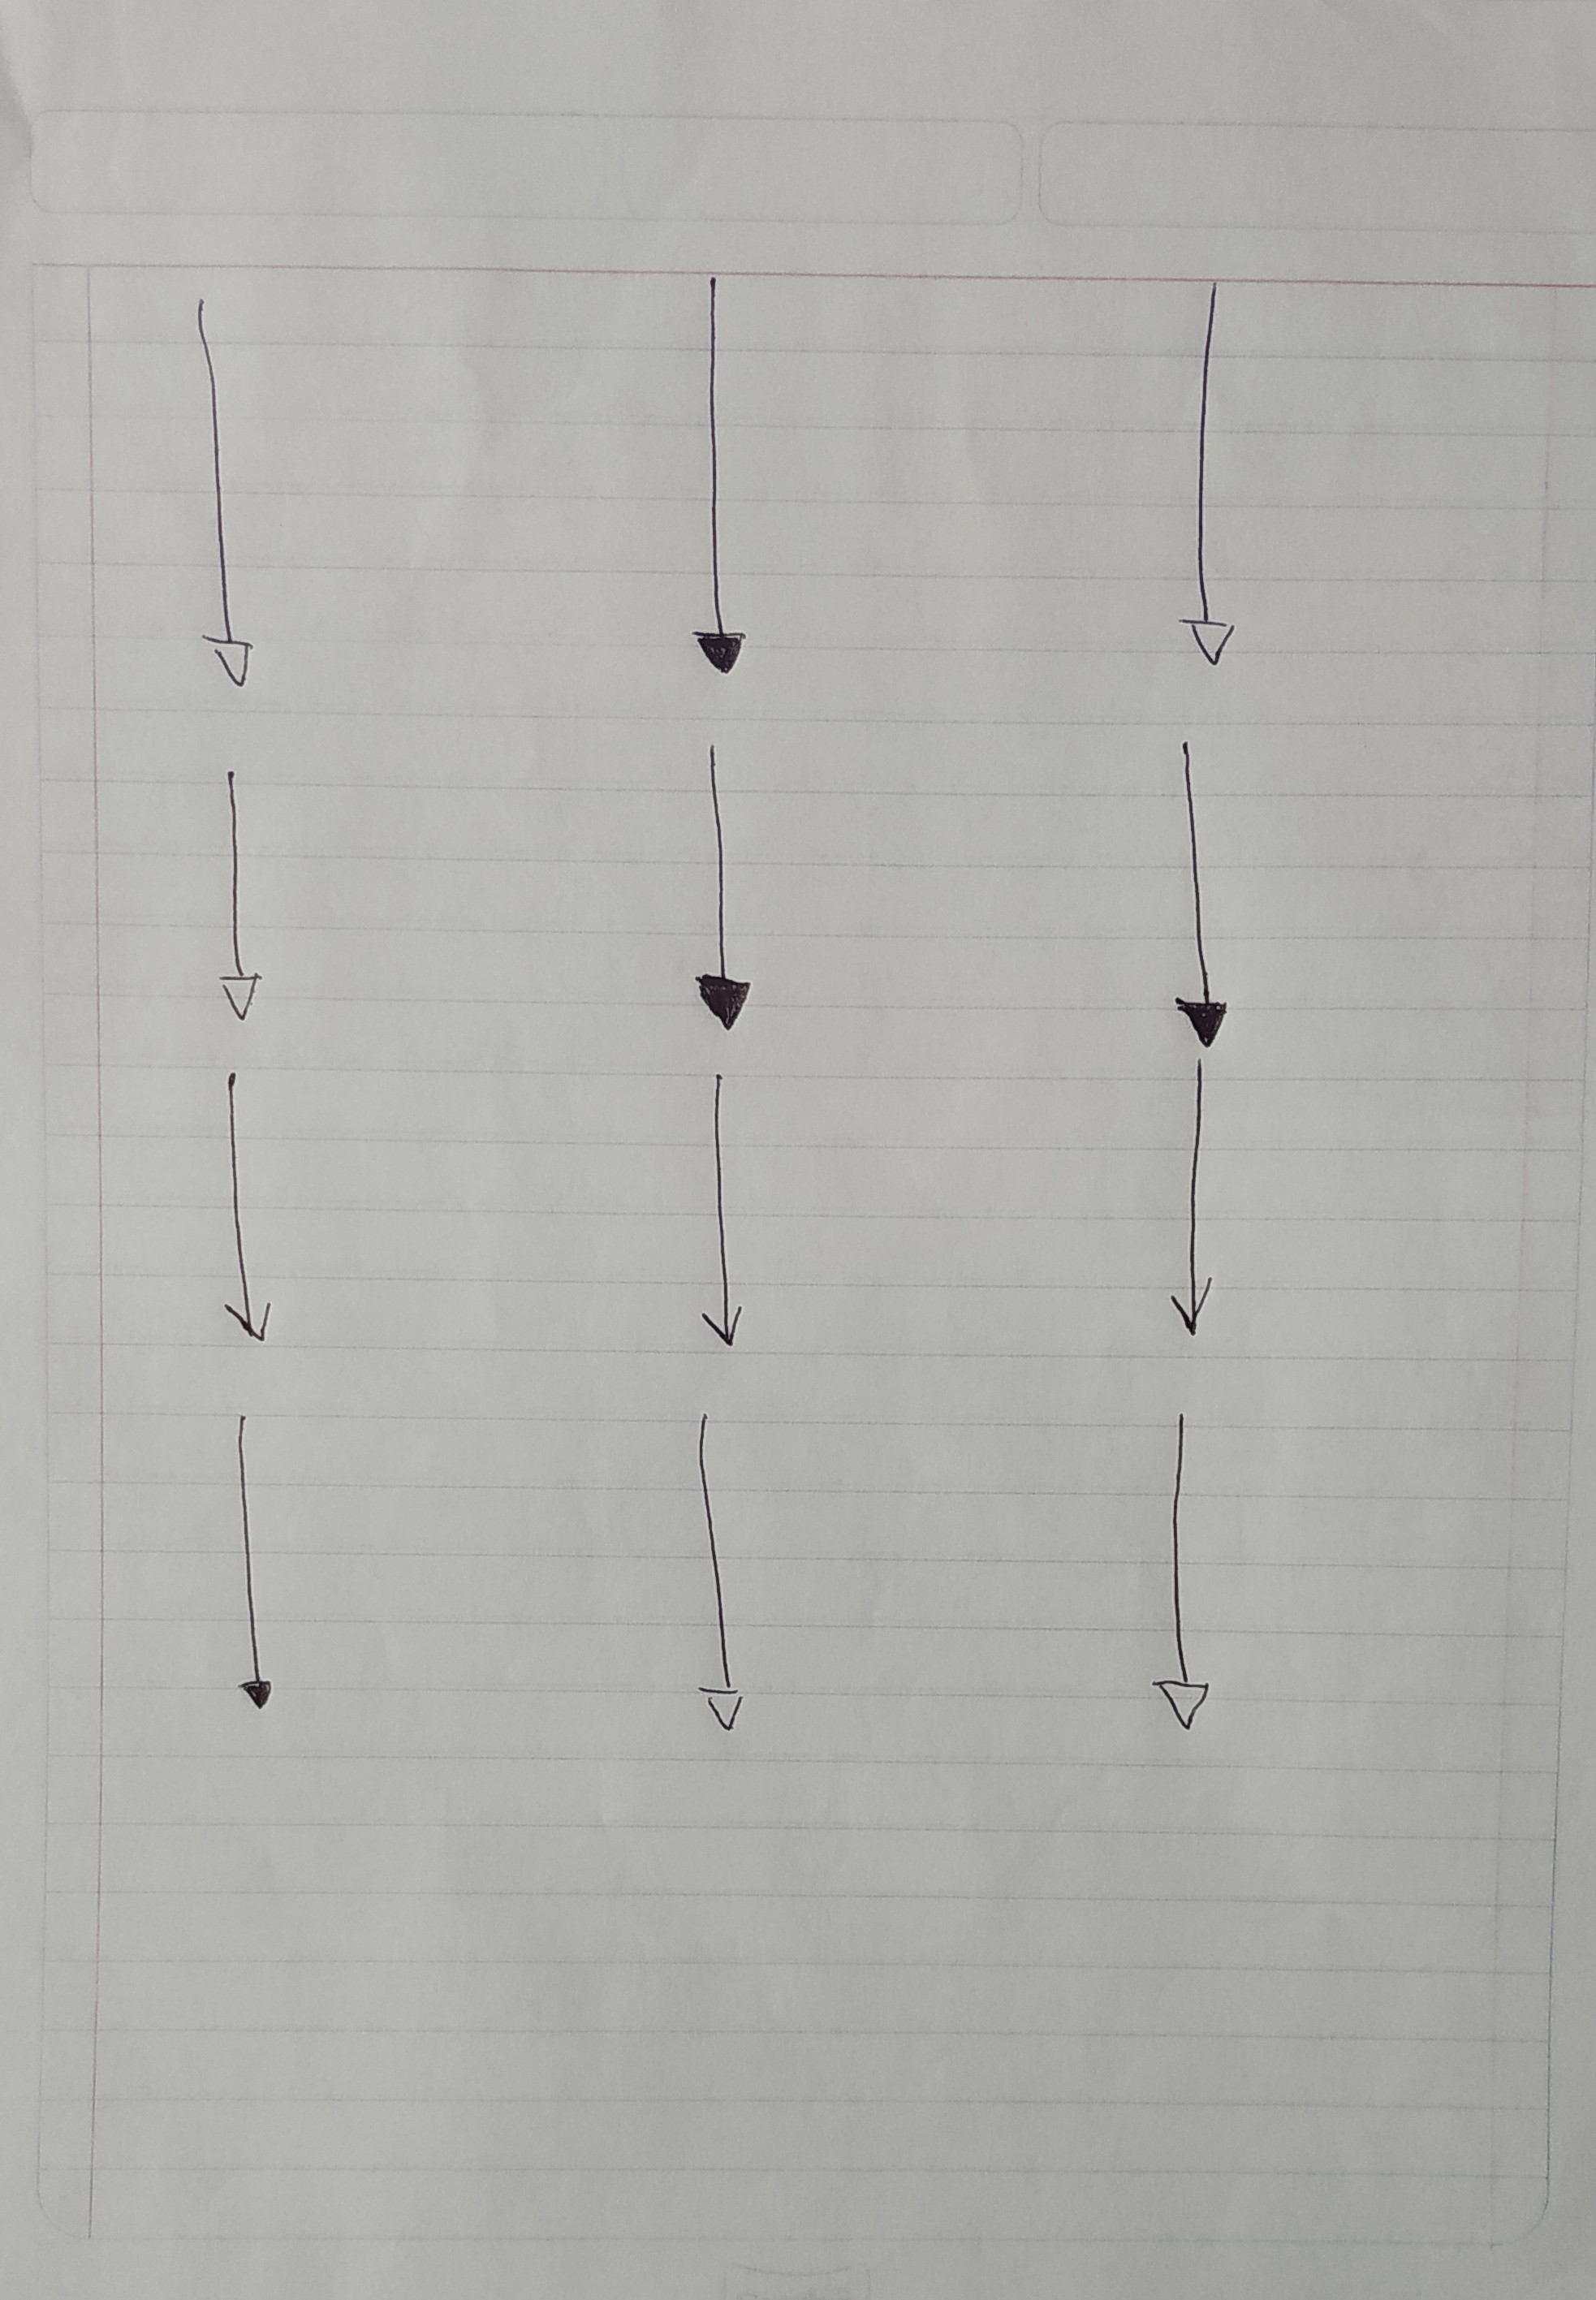arrow_line_down: (177, 292, 259, 703), (684, 269, 757, 680), (1178, 273, 1245, 675), (1161, 734, 1238, 1054), (682, 739, 760, 1045), (678, 1407, 750, 1741), (1143, 1407, 1211, 1739), (201, 1059, 280, 1346), (217, 1398, 283, 1716), (689, 1064, 750, 1360), (1166, 1054, 1225, 1347), (206, 762, 267, 1029)
